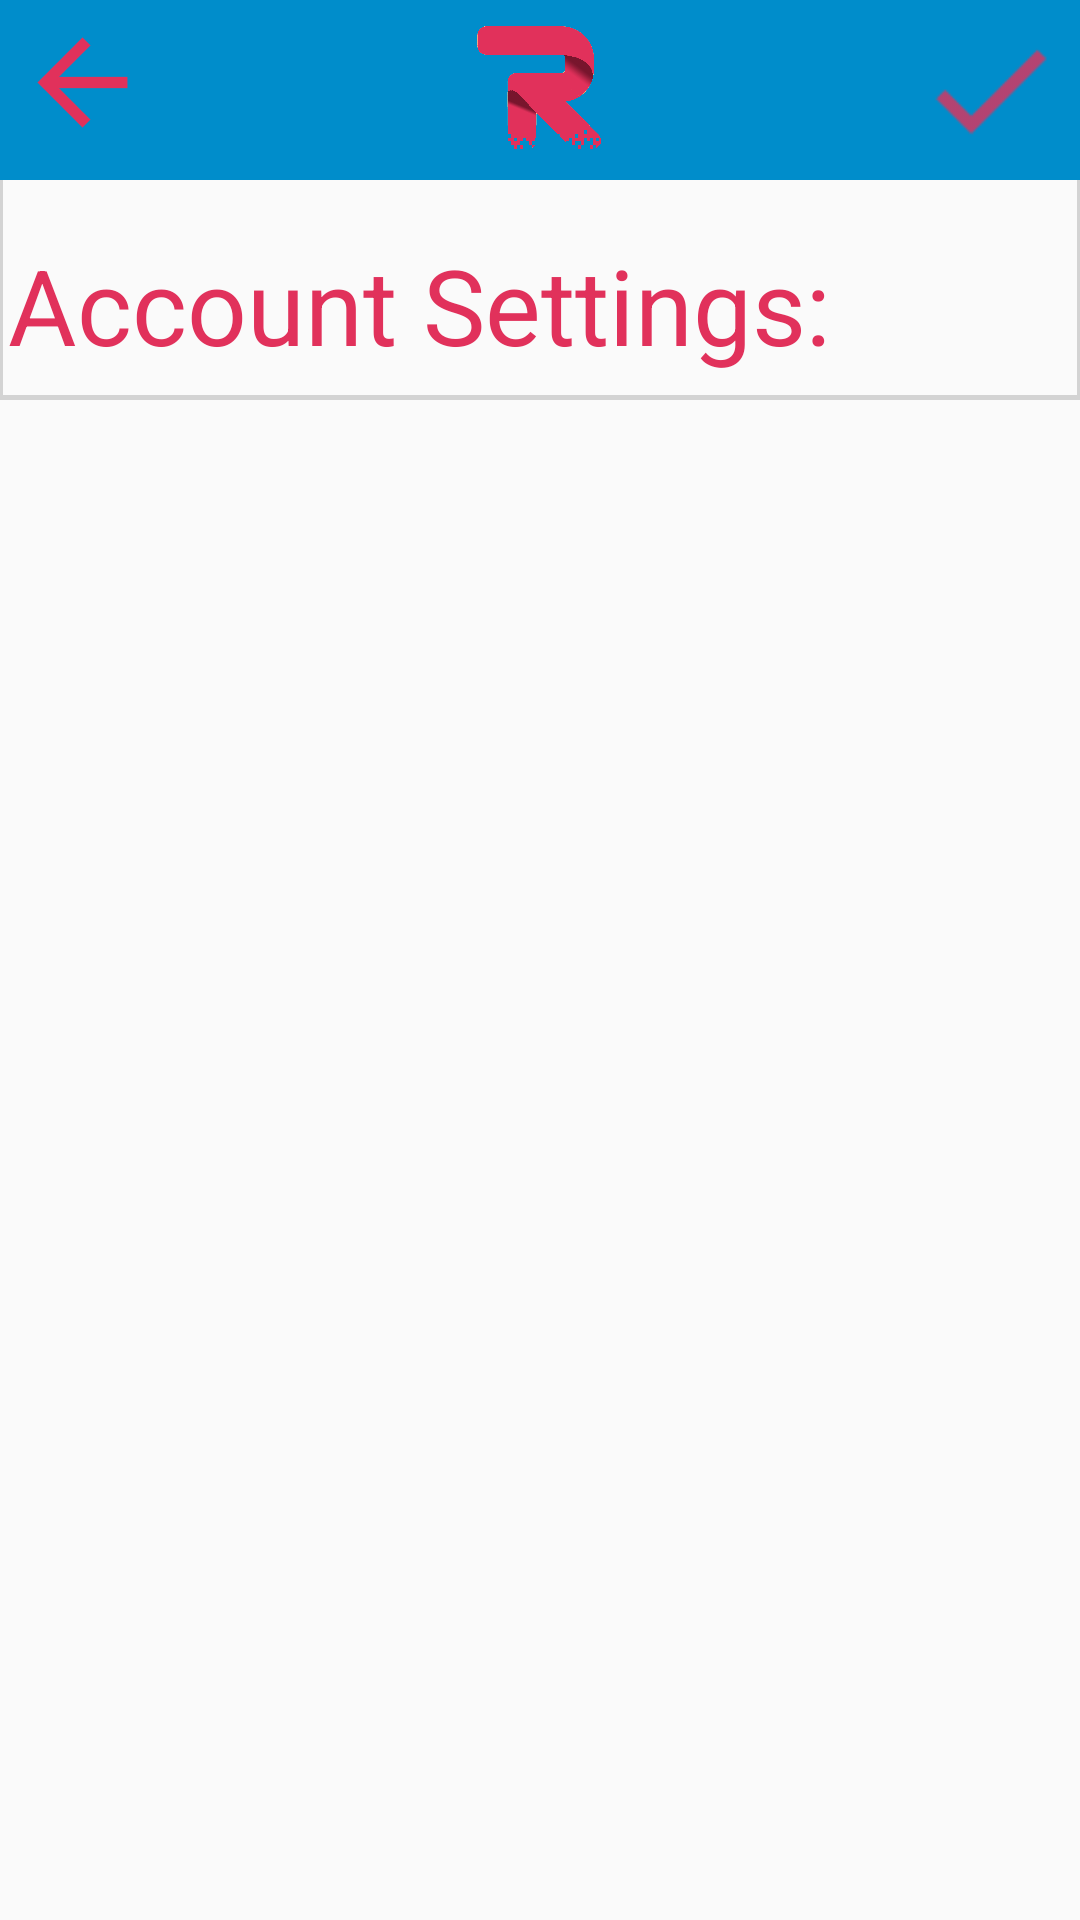

Where icons sit on this 1080*1920 app screen, as (x1, y1, x2, y2):
backbutton: (37, 37, 128, 128)
checkmark: (935, 50, 1047, 134)
